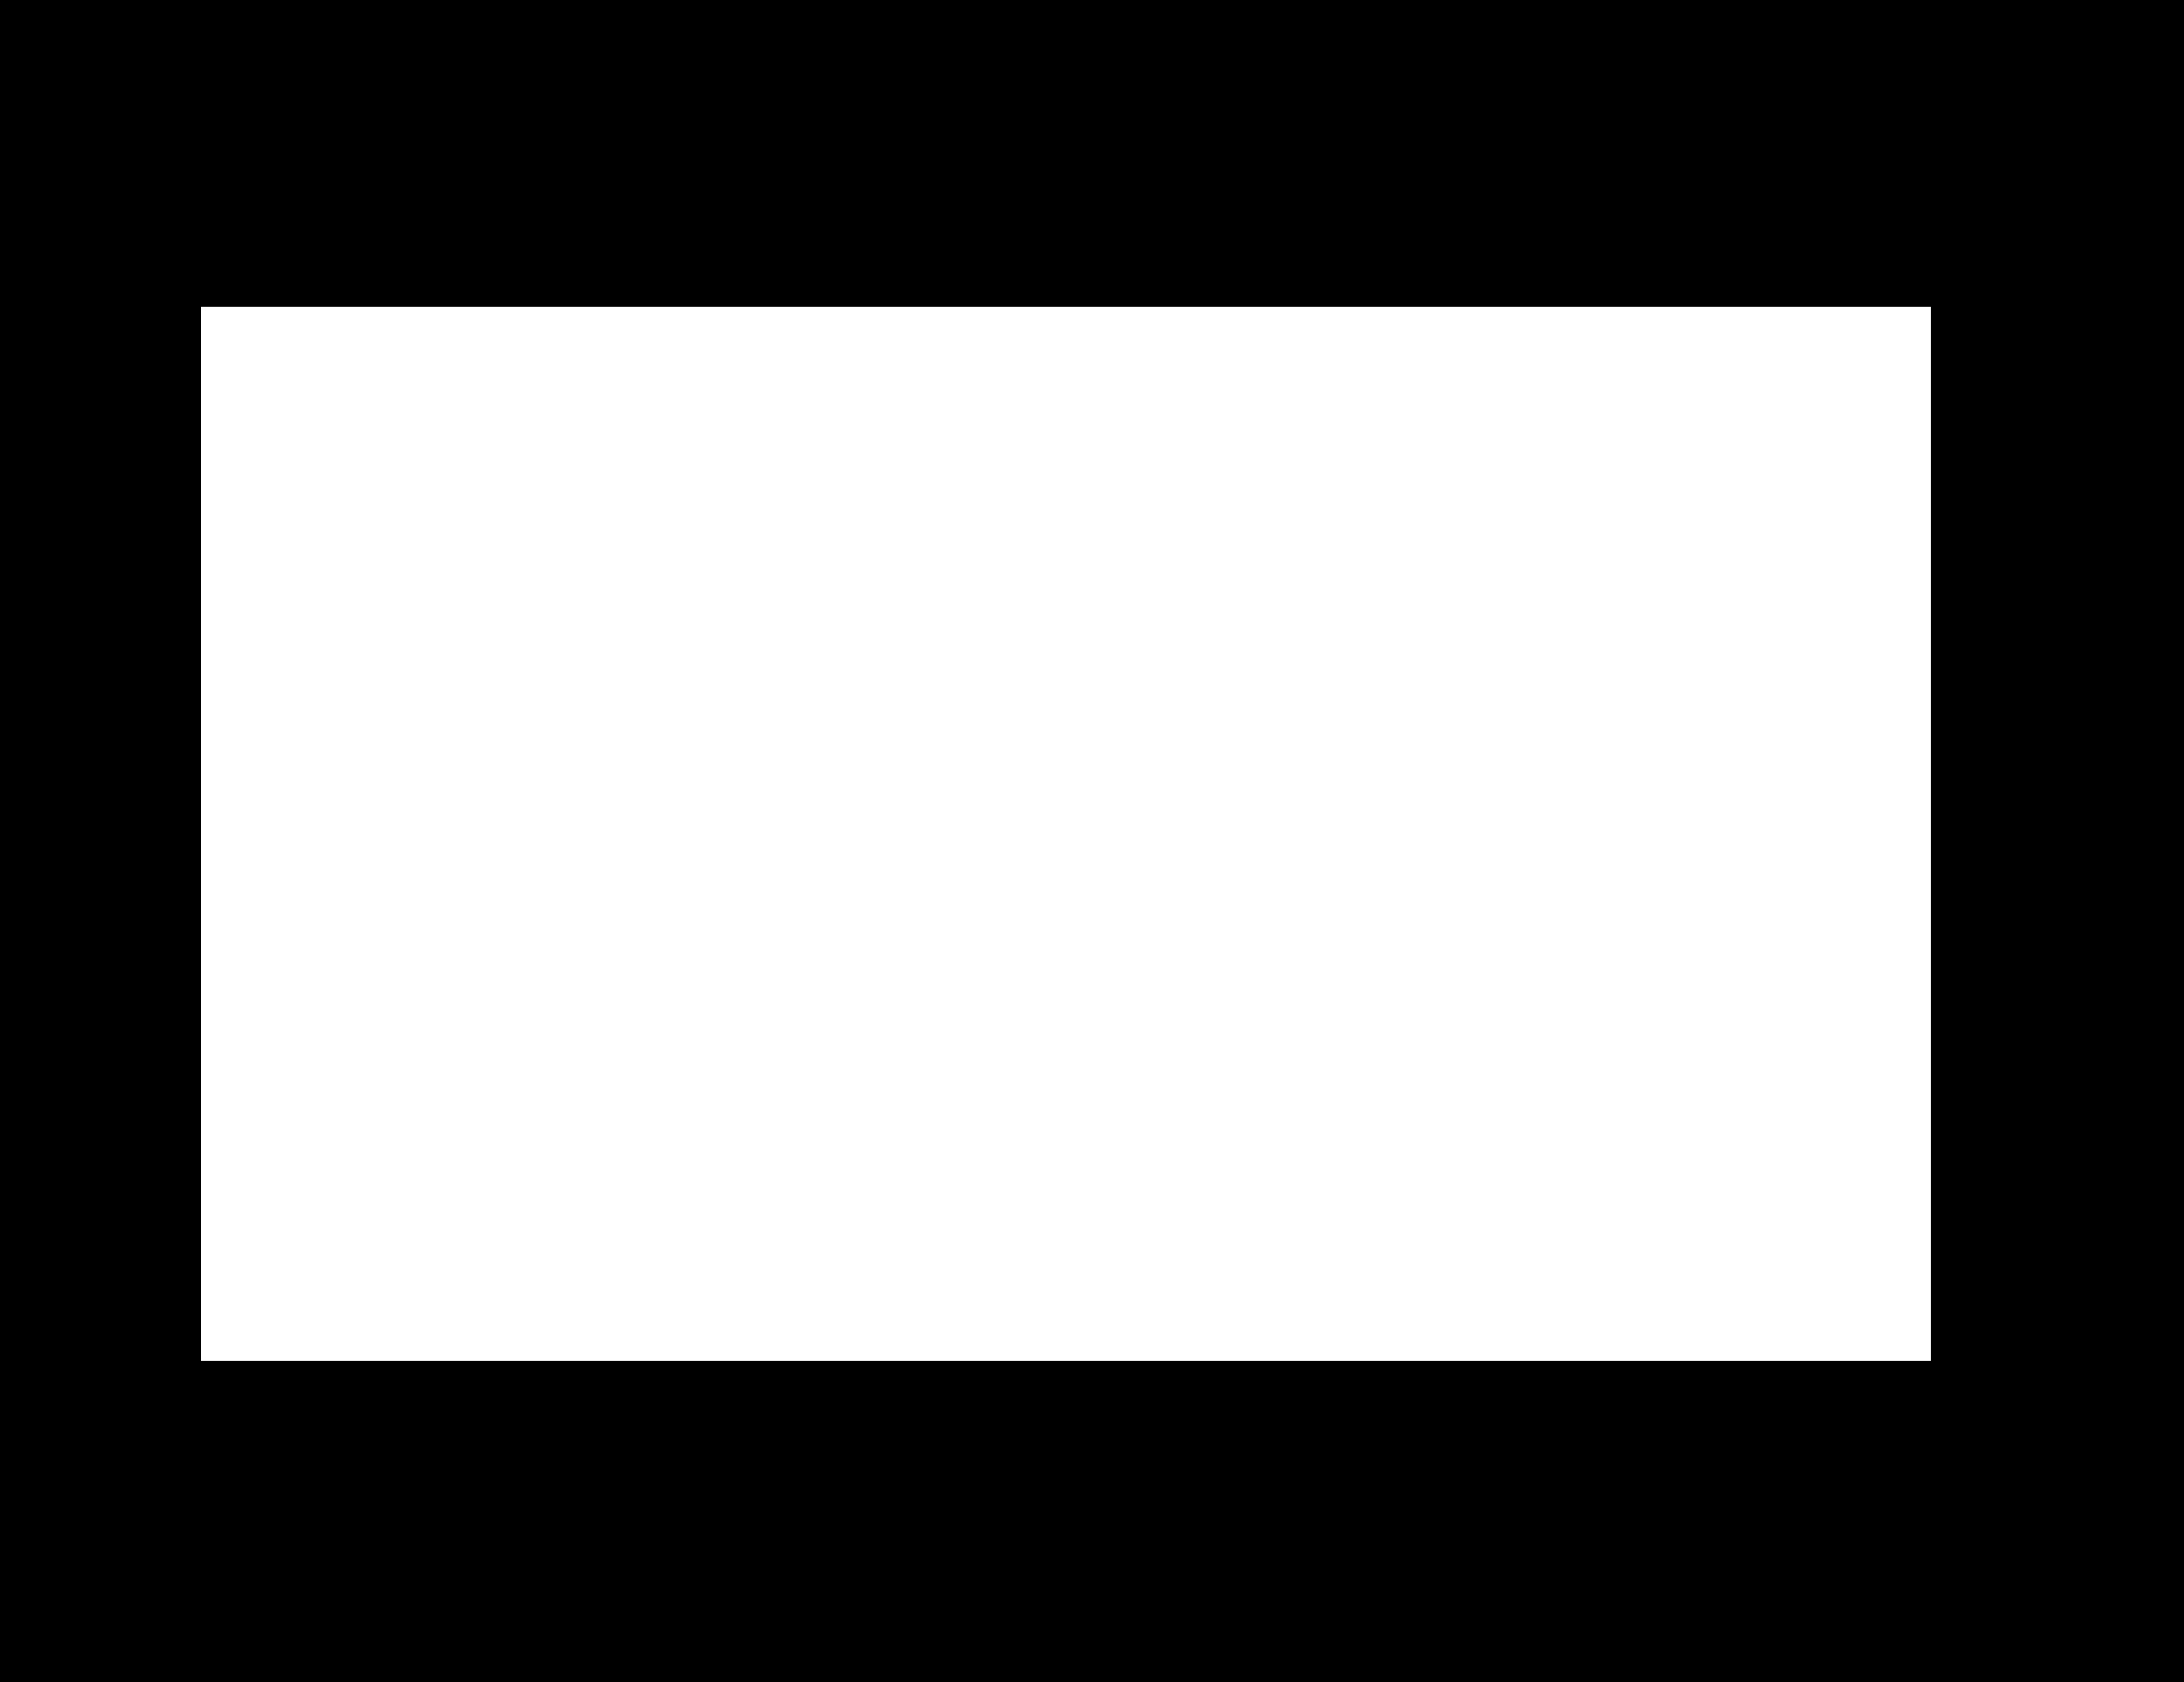table: (201, 307, 1930, 1360)
